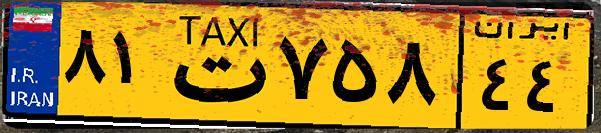1: (110, 28, 158, 98)
4: (475, 38, 525, 113), (525, 38, 570, 115)
5: (330, 28, 385, 110)
7: (270, 28, 330, 110)
8: (385, 28, 445, 110), (57, 26, 110, 100)
ت: (158, 12, 270, 120)
